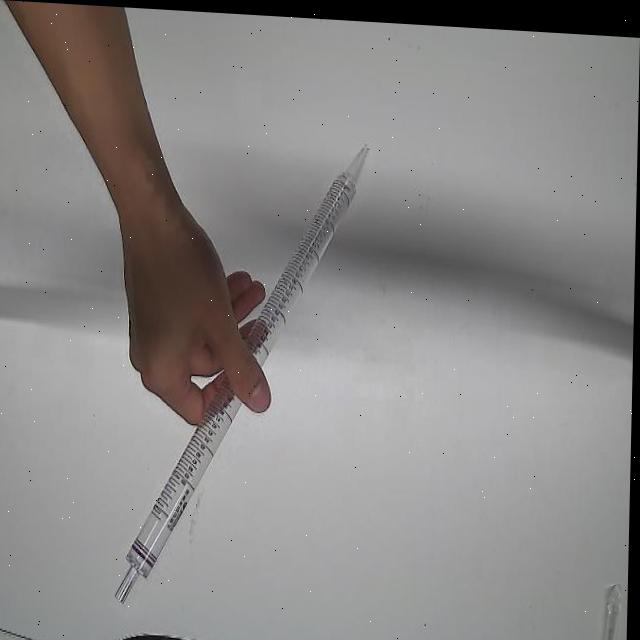Serelogical Pipet 50 mL: (115, 115, 382, 618)
